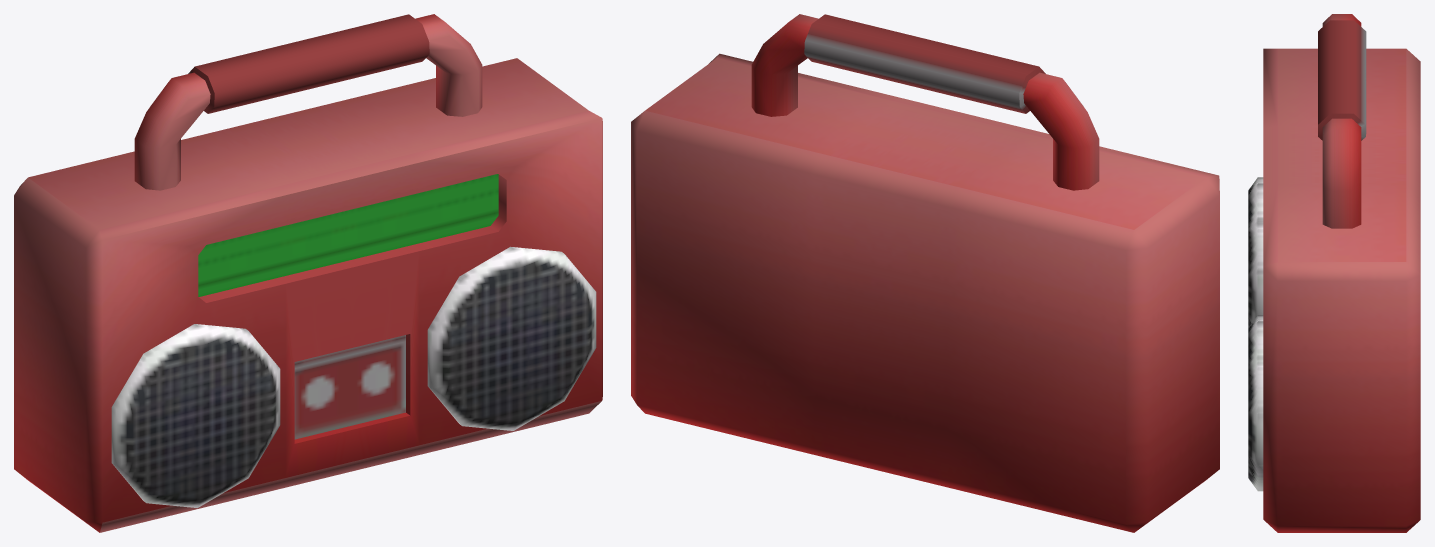
The model's file is FestiveBoomBox.fbx.
3 renders of one model, left to right at view 1: azimuth 30°, elevation 25°; view 2: azimuth 150°, elevation 25°; view 3: azimuth 270°, elevation 25°, orthographic. The views are drawn at different scales.
Visible parts, largest first — view 1: Box; view 2: Box; view 3: Box.
Part boxes in pixels (x1=…): Box: x1=14, y1=14, x2=602, y2=532; Box: x1=631, y1=14, x2=1219, y2=532; Box: x1=1248, y1=14, x2=1420, y2=532.
Size of the model in its own units: 1.14 by 0.844 by 0.3672.
